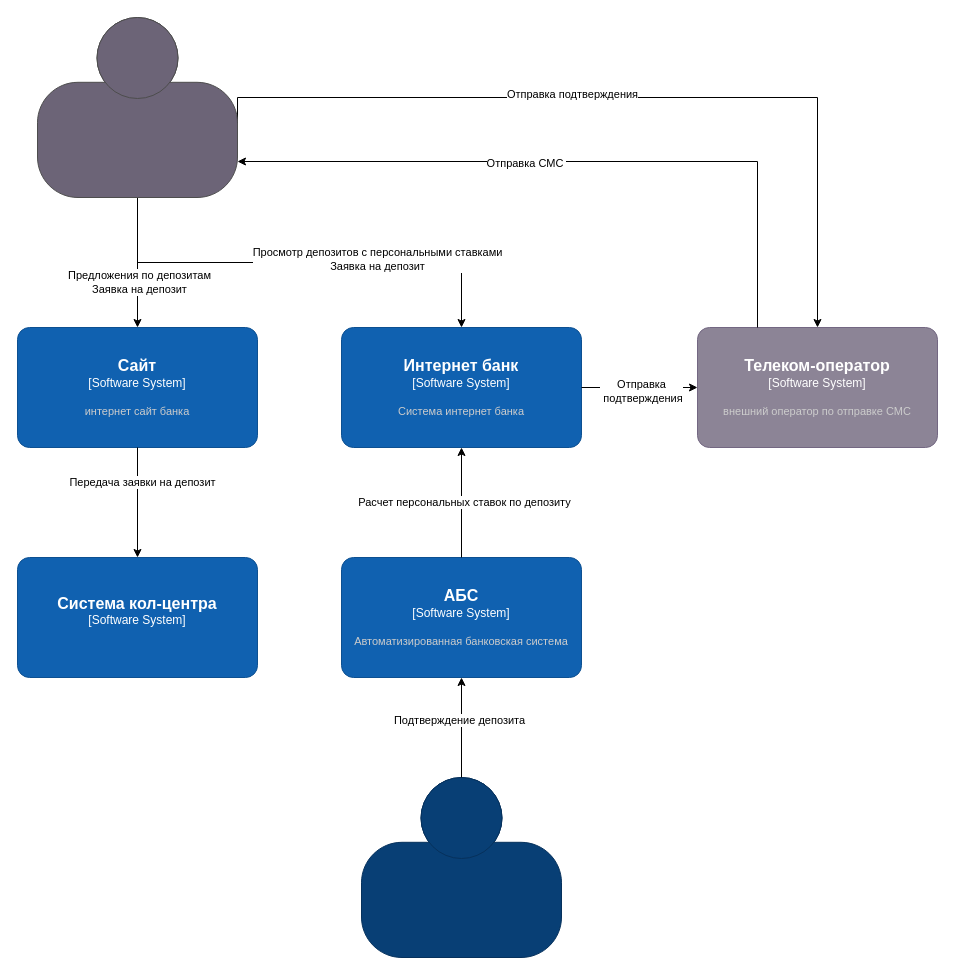
The diagram is 955 pixels wide and 975 high, and some of its shapes have lost their labels. The box of each missing label's shape, as (x1, y1, x2, y2) in pixels:
Клиент [Person] клиент банка: (36, 16, 238, 198)
Менеджер [Person] Менеджер бек-офиса: (360, 776, 562, 958)
